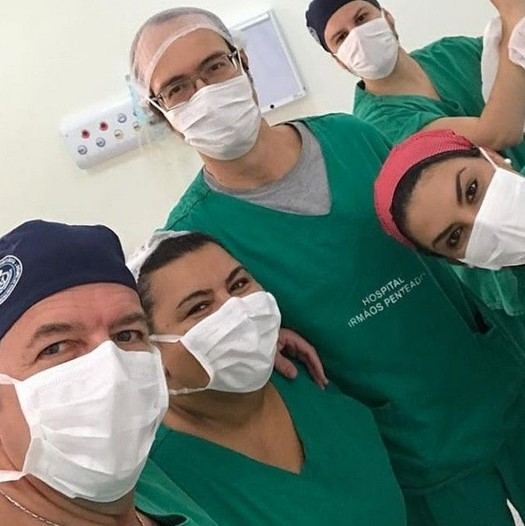face_with_mask: (1, 218, 172, 511), (124, 229, 285, 404), (372, 127, 524, 271), (137, 5, 264, 160), (302, 1, 402, 82)
